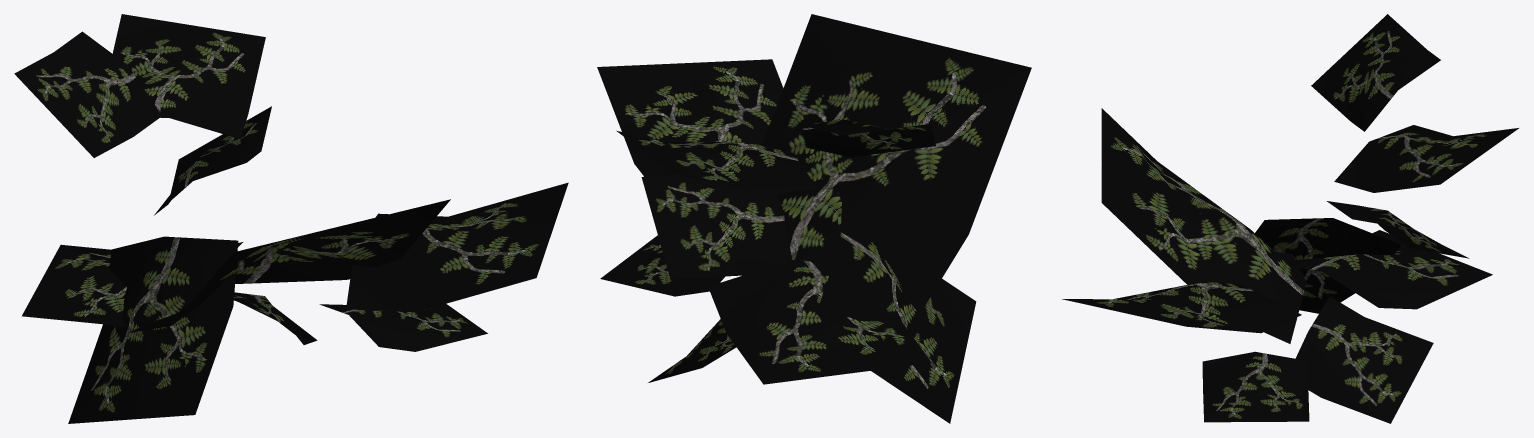
The model's file is tree1_branch.obj.
3 renders of one model, left to right at view 1: azimuth 30°, elevation 25°; view 2: azimuth 150°, elevation 25°; view 3: azimuth 270°, elevation 25°, orthographic. The views are drawn at different scales.
Visible parts, largest first — view 1: Mesh; view 2: Mesh; view 3: Mesh.
Boxes of the visible parts, x1,y1,x2,y2 form: Mesh: (14, 14, 568, 423); Mesh: (597, 14, 1031, 423); Mesh: (1062, 14, 1518, 423).
Bounding box in the file's own units: 2.53 × 1.79 × 2.55.
